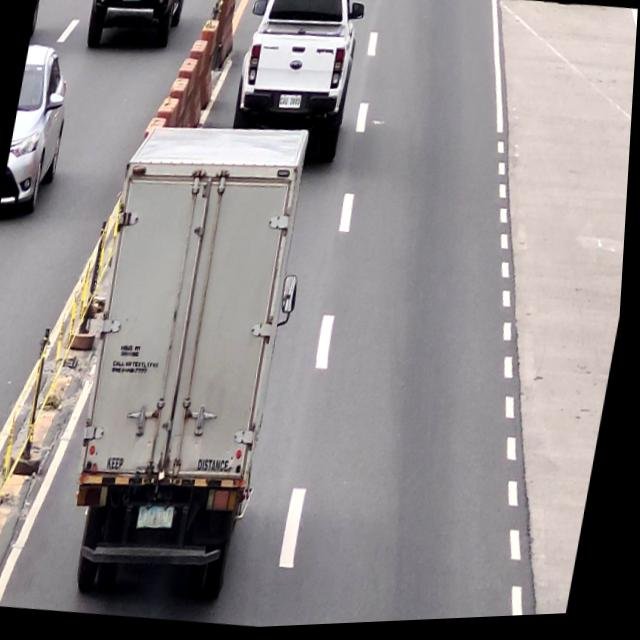Car: (226, 0, 371, 163)
License-Plate: (141, 506, 183, 534), (278, 96, 305, 113)
Truck: (54, 114, 329, 617)
